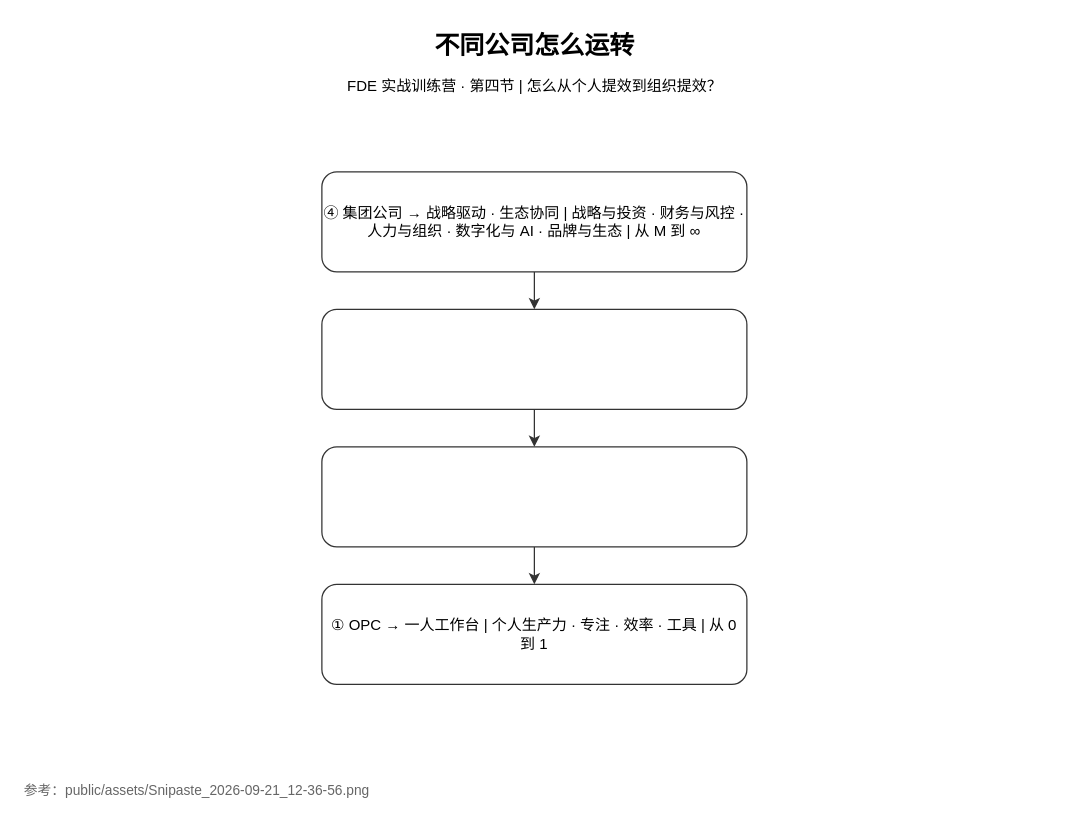
Some shapes in this 1068 by 823 pixel diagram are drawn without their labels. Here are the shapes that lost their labels. From the top down, the centre of each, then its label:
At [534,358]: "③ 业务单元 → 团队协同作战 | 产品 · 运营 · 市场 · 交付 · 支持 | 从 N 到 M".
At [534,496]: "② 小型公司 → 以老板为中心 | 老板视角 · 决策 · 执行 · 结果 | 从 1 到 N".
